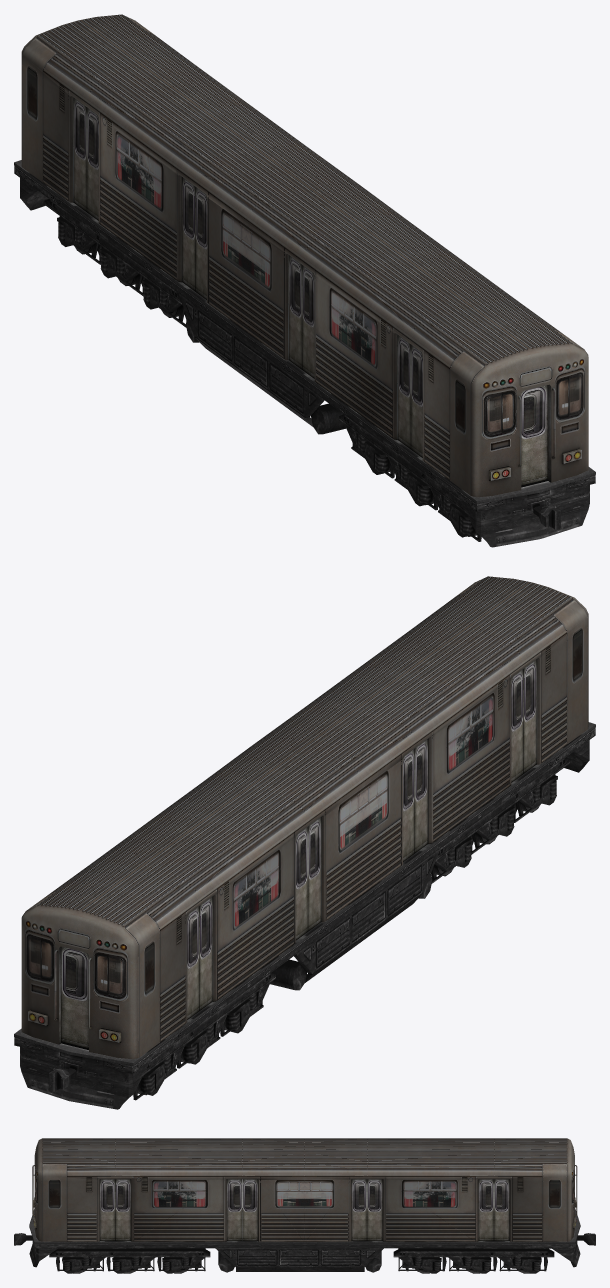
The model's file is Metro.fbx.
The picture shows the model from 3 angles, top to bottom: view 1: azimuth 30°, elevation 25°; view 2: azimuth 150°, elevation 25°; view 3: azimuth 270°, elevation 25°; orthographic projection. The views are drawn at different scales.
Visible parts, largest first — view 1: Door19, Base, Door18, Door9, Door14, Door12, Door16, Door11, Door13, Door15, Door10; view 2: Door19, Base, Door17, Door10, Door11, Door15, Door13, Door9, Door16, Door14, Door12; view 3: Door19, Base, Door1, Door2, Door3, Door4, Door5, Door6, Door7, Door8.
Part boxes in pixels (x1,y1,x2,y2): Door19: [21, 14, 588, 497]; Base: [14, 160, 595, 547]; Door18: [521, 385, 547, 487]; Door9: [397, 335, 410, 449]; Door14: [182, 177, 195, 291]; Door12: [289, 255, 302, 369]; Door16: [73, 98, 86, 211]; Door11: [302, 265, 314, 378]; Door13: [195, 187, 207, 299]; Door15: [87, 107, 98, 220]; Door10: [411, 344, 422, 457]; Door19: [21, 576, 588, 1059]; Base: [14, 722, 595, 1109]; Door17: [61, 946, 88, 1049]; Door10: [523, 659, 536, 773]; Door11: [414, 739, 427, 853]; Door15: [199, 896, 212, 1010]; Door13: [308, 817, 321, 931]; Door9: [511, 669, 523, 782]; Door16: [187, 906, 199, 1019]; Door14: [295, 827, 307, 940]; Door12: [403, 749, 414, 861]; Door19: [32, 1138, 577, 1241]; Base: [14, 1208, 595, 1273]; Door1: [494, 1179, 509, 1240]; Door2: [478, 1179, 493, 1240]; Door3: [367, 1179, 382, 1240]; Door4: [351, 1179, 366, 1240]; Door5: [242, 1179, 257, 1240]; Door6: [227, 1179, 242, 1240]; Door7: [115, 1179, 130, 1240]; Door8: [100, 1179, 115, 1240].
Size of the model in its own units: 275 by 438 by 1987.
